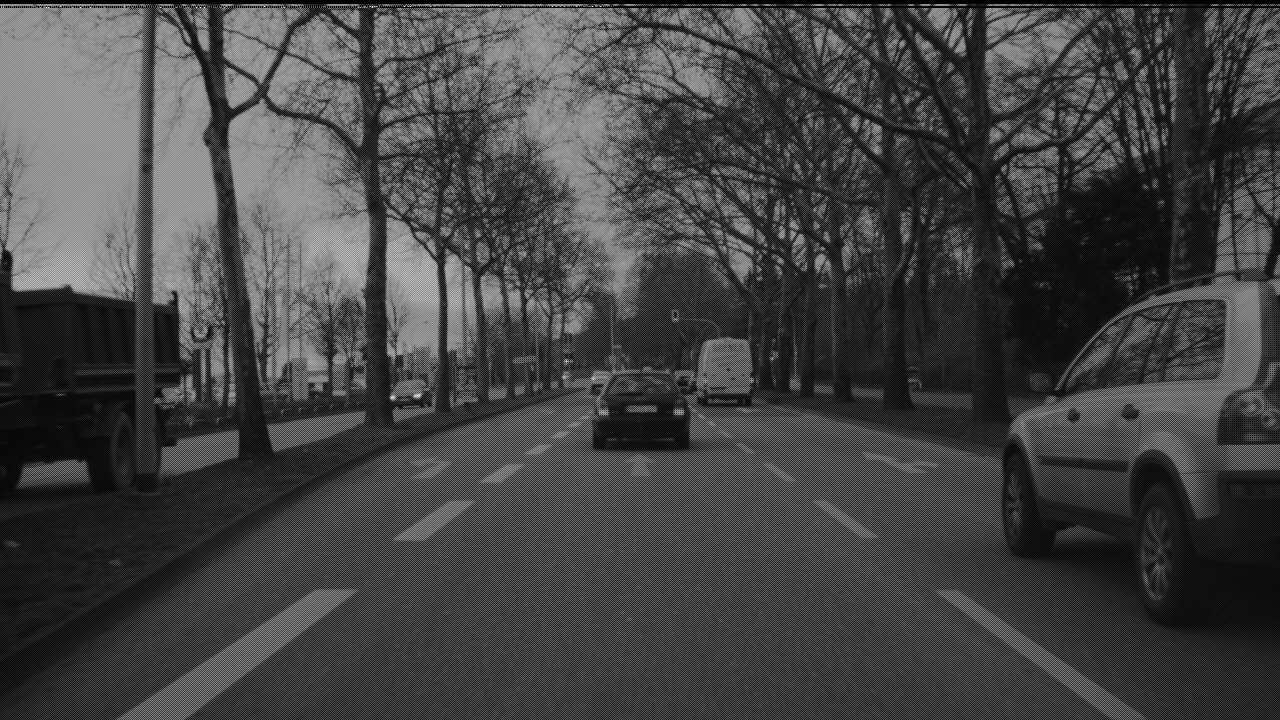pole: (137, 1, 157, 482)
